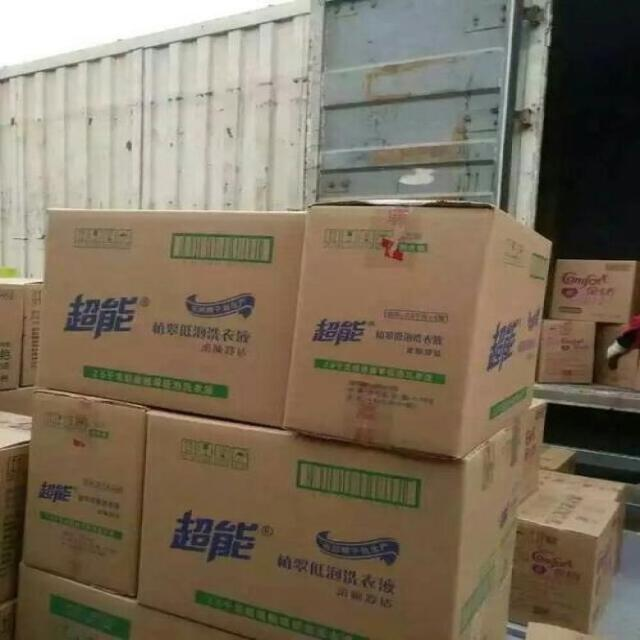box: (136, 408, 504, 638), (283, 200, 553, 462), (36, 208, 307, 428), (23, 388, 150, 596), (17, 566, 250, 639), (513, 487, 621, 633), (540, 469, 626, 561), (0, 410, 31, 603), (549, 260, 640, 324), (0, 276, 44, 386), (500, 414, 529, 580), (538, 320, 595, 384), (462, 569, 513, 638), (593, 324, 640, 390), (521, 397, 548, 507), (0, 282, 23, 391), (524, 621, 602, 639), (0, 386, 33, 415), (543, 446, 577, 474), (0, 599, 17, 640)
